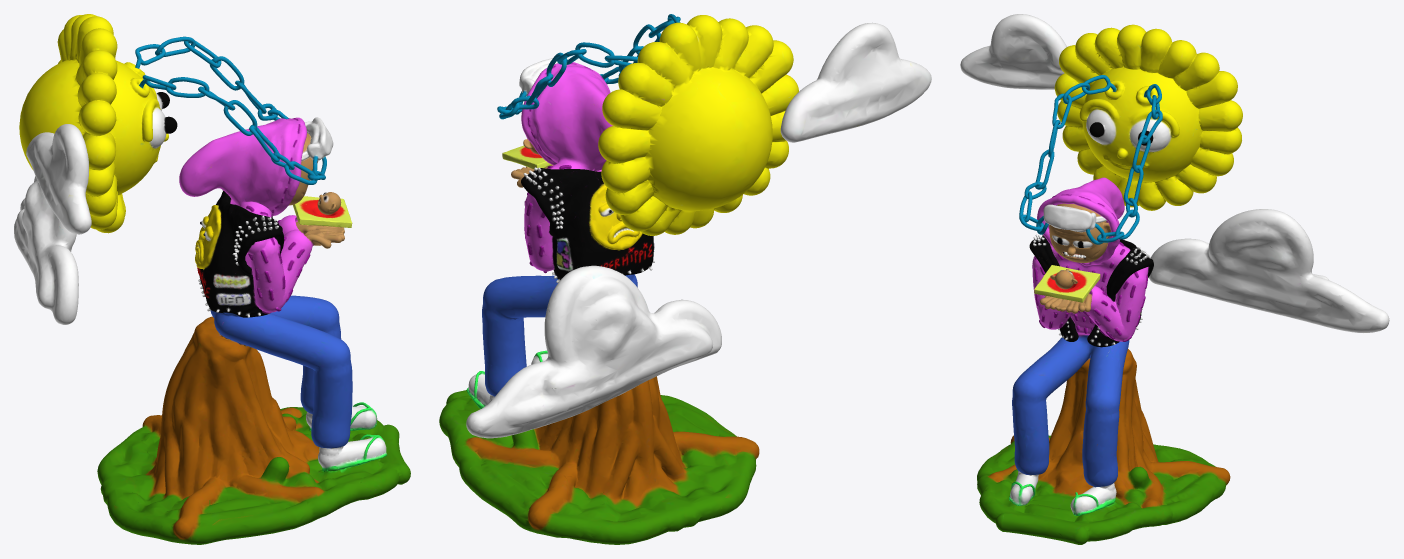
The model's file is sunchain.web.glb.
3 views of the same model, side by side, from view 1: azimuth 30°, elevation 25°; view 2: azimuth 150°, elevation 25°; view 3: azimuth 270°, elevation 25° (orthographic). The views are drawn at different scales.
Parts seen in each view (by area): view 1: sunchain; view 2: sunchain; view 3: sunchain.
Boxes of the visible parts, x1,y1,x2,y2 form: sunchain: (14, 14, 410, 544); sunchain: (439, 14, 931, 544); sunchain: (960, 14, 1389, 544).
Size of the model in its own units: 9.82 by 11.66 by 10.56.
Materials: 1 (1 with a texture image).
